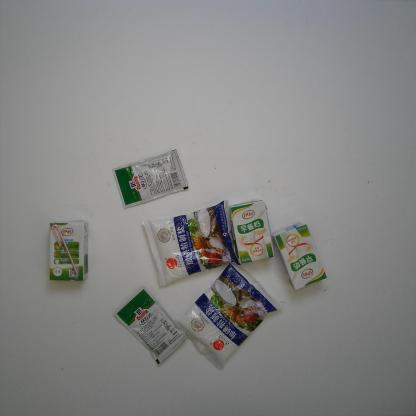Milk: (272, 221, 328, 292), (228, 199, 275, 266), (46, 218, 91, 283)
Seasoner: (172, 261, 284, 372), (142, 199, 242, 287), (112, 284, 189, 366), (111, 148, 189, 211)
